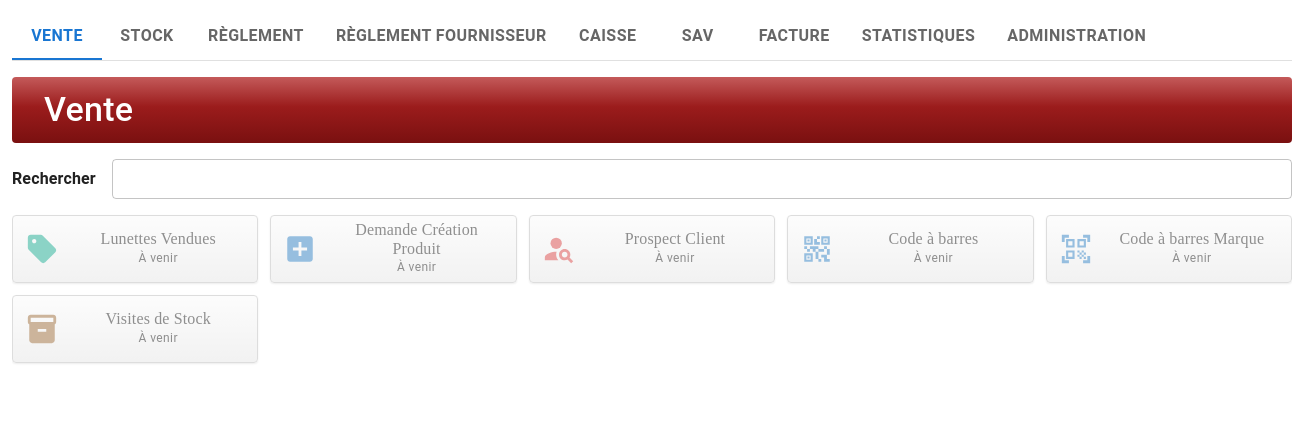
Test: l'Administration est rangée en catégories, comme dans /admin/
The width and height of the screenshot is (1304, 439).
Click the tab "Administration" at [1077, 36], box [991,12,1162,60]
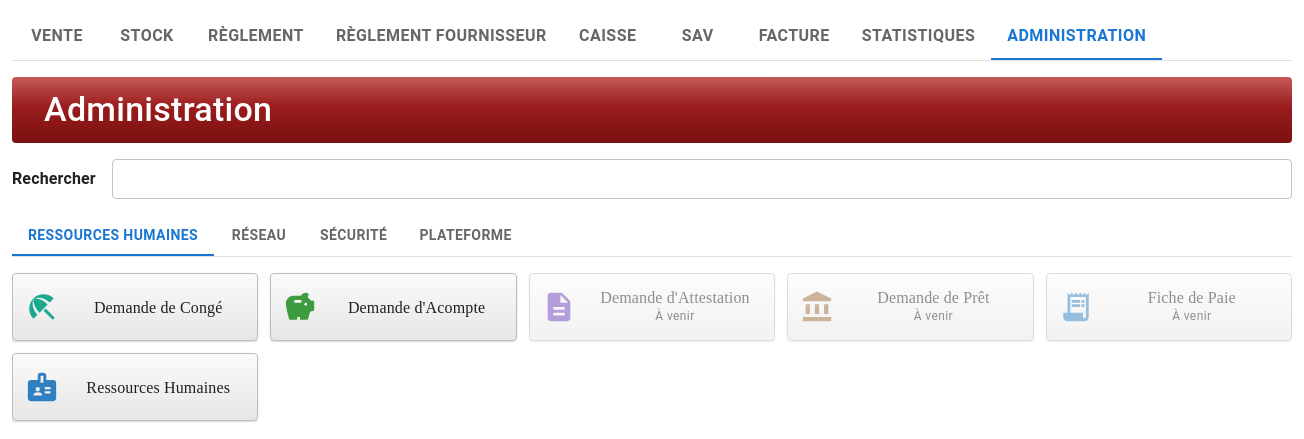
Expected: the button "Magasins" is not shown
Expected: the tabs read "Ressources humaines", "Réseau", "Sécurité", "Plateforme", in this order
Expected: the button "Demande de Congé" is shown, [12,274,258,342]
Click the tab "Réseau" at [259, 236], box [214,215,304,256]
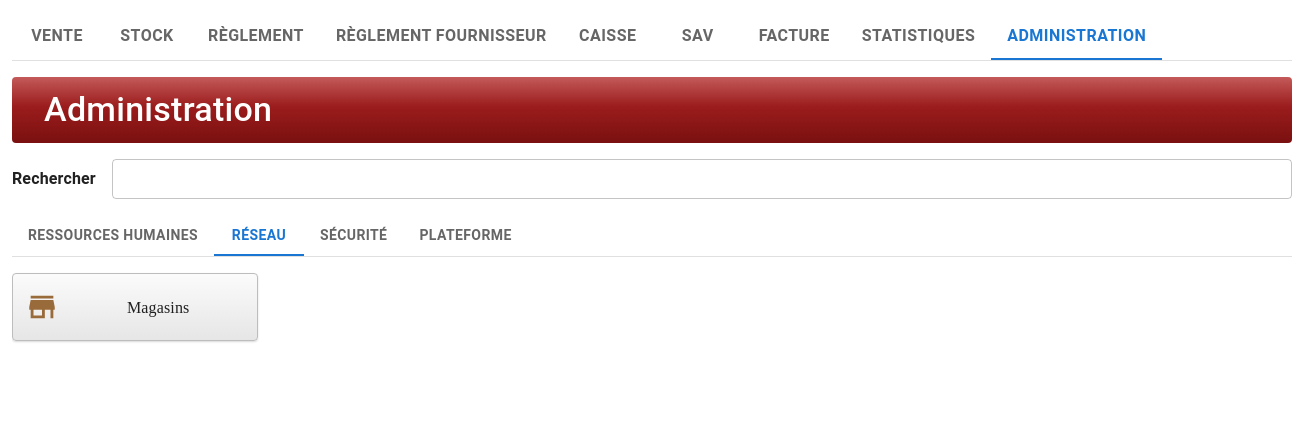
Expected: the button "Magasins" is shown, [12,274,258,342]
Expected: the button "Demande de Congé" is gone
// La recherche parcourt toutes les catégories.
Type "sécurité" into the field labelled "Rechercher" at [702, 179], box [112,159,1292,199]
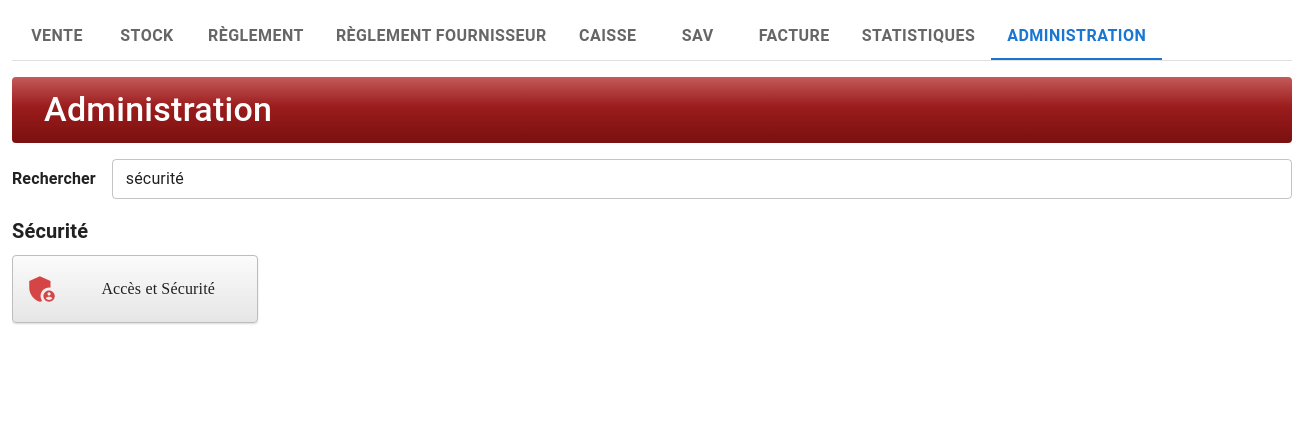
Expected: the heading "Sécurité" is shown, [12,219,88,243]
Expected: the button "Accès et Sécurité" is shown, [12,255,258,323]
